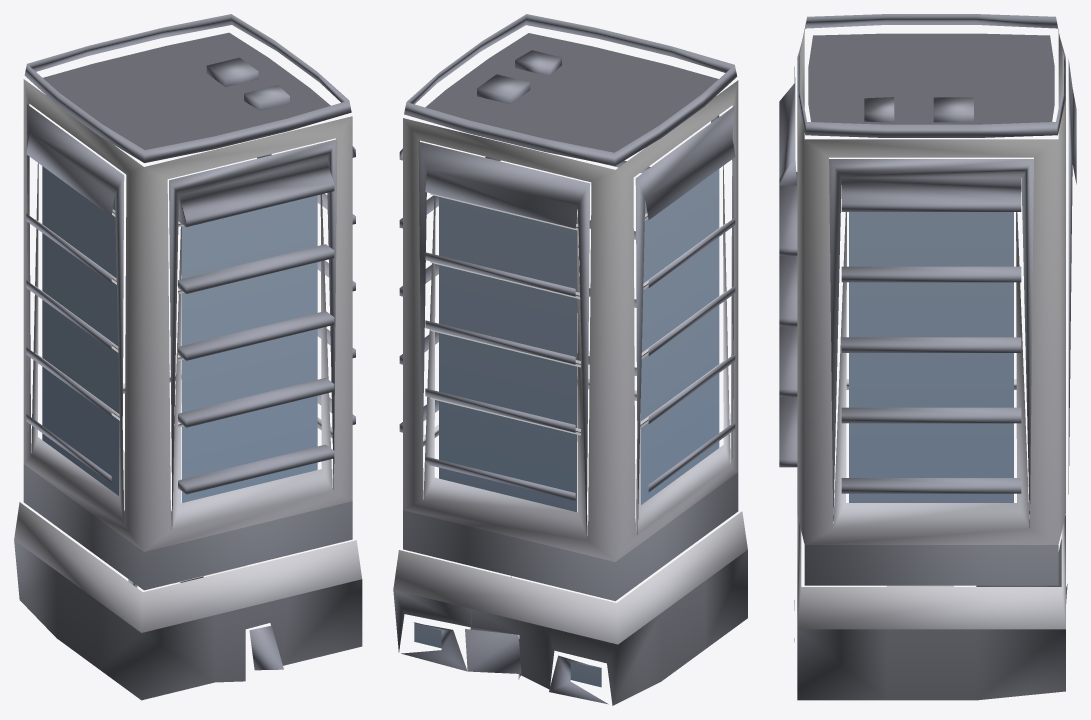
3 views of the same model, side by side, from view 1: azimuth 30°, elevation 25°; view 2: azimuth 150°, elevation 25°; view 3: azimuth 270°, elevation 25° (orthographic). The views are drawn at different scales.
Size of the model in its own units: 10.62 by 23.04 by 10.62.
